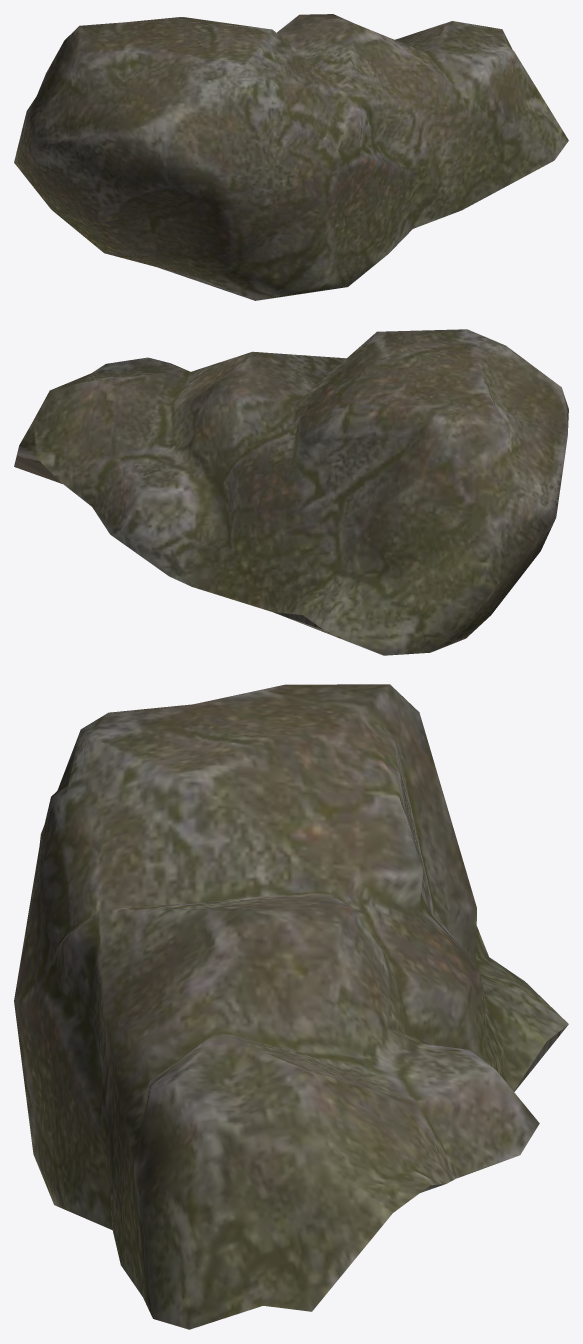
File: Rock_01.glb
3 views of the same model, one above another, from view 1: azimuth 30°, elevation 25°; view 2: azimuth 150°, elevation 25°; view 3: azimuth 270°, elevation 25° (orthographic). The views are drawn at different scales.
Visible parts, largest first — view 1: SM_Rock_01; view 2: SM_Rock_01; view 3: SM_Rock_01.
Boxes of the visible parts, left/top/right/bottom form: SM_Rock_01: left=14, top=14, right=568, bottom=300; SM_Rock_01: left=14, top=329, right=568, bottom=655; SM_Rock_01: left=14, top=684, right=568, bottom=1329.
Size of the model in its own units: 1.43 by 0.6763 by 0.8118.
Materials: 1 (1 with a texture image).
